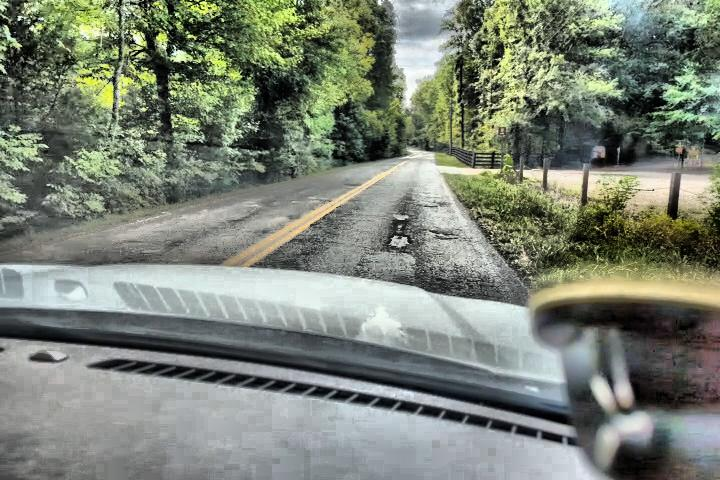pothole: (385, 217, 415, 252), (430, 224, 454, 244), (164, 236, 189, 251)
